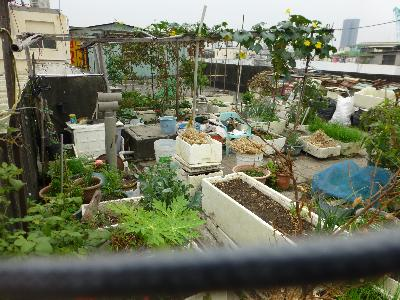bucket: (158, 114, 177, 135)
plastic_bag: (329, 94, 354, 127)
washing_machine: (353, 86, 397, 111)
